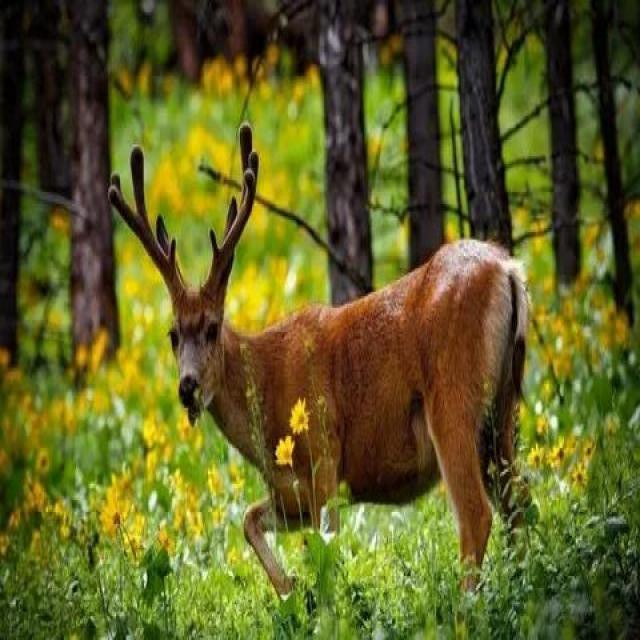deer: (106, 95, 535, 617)
